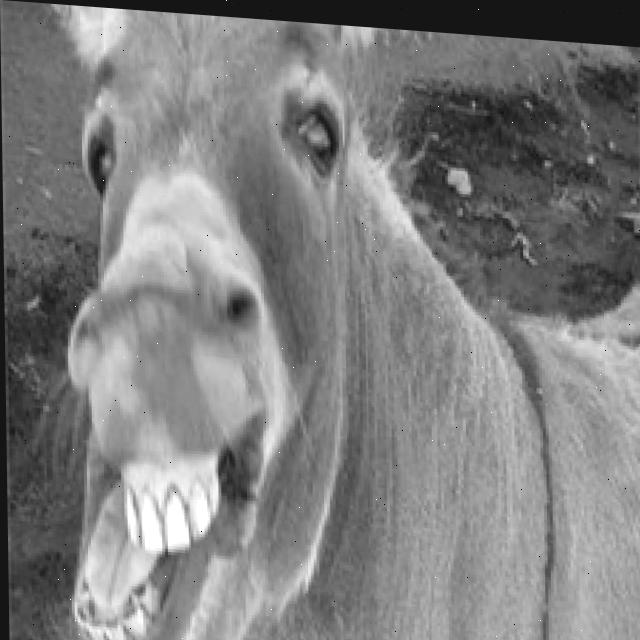Donkey: (23, 2, 640, 640)
